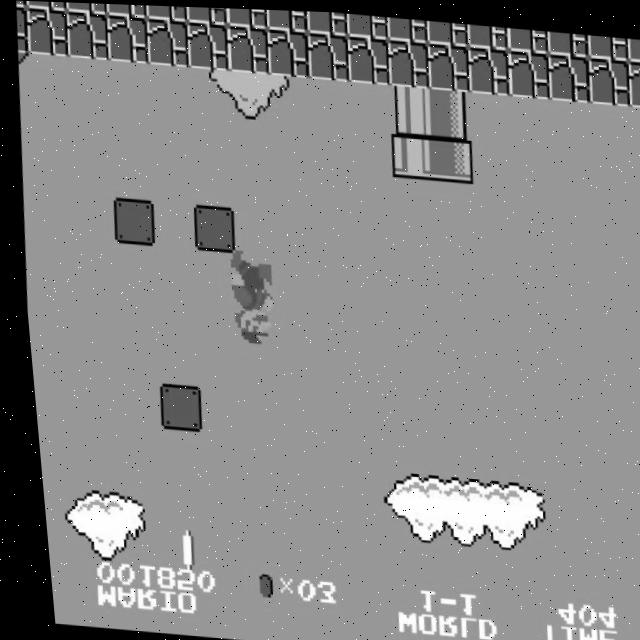0- big_mario: (218, 248, 273, 346)
14- pipe: (385, 83, 432, 132), (426, 86, 472, 135)
15- pipe_head: (386, 128, 433, 177), (426, 131, 473, 180)
17- undestructible_block: (224, 23, 271, 73), (264, 27, 311, 76), (424, 40, 471, 89), (184, 20, 230, 70), (305, 30, 351, 80), (345, 33, 391, 83), (24, 7, 70, 56), (64, 11, 110, 60), (104, 14, 150, 63), (144, 17, 190, 66), (385, 37, 431, 86), (465, 43, 511, 92), (505, 47, 551, 96), (545, 50, 591, 99), (585, 53, 631, 102), (425, 17, 469, 44), (546, 27, 590, 54), (345, 11, 389, 37), (385, 14, 429, 40), (586, 31, 630, 57), (466, 21, 509, 47), (506, 24, 549, 50), (305, 9, 349, 34), (265, 8, 309, 31), (225, 7, 268, 27), (185, 5, 228, 24), (14, 7, 30, 54), (145, 4, 188, 20), (626, 56, 640, 105), (105, 3, 148, 17), (65, 2, 108, 14), (25, 1, 68, 11), (626, 33, 640, 59), (16, 0, 27, 8)
3- empty_block: (187, 203, 234, 252), (107, 196, 153, 245), (151, 383, 197, 431)
